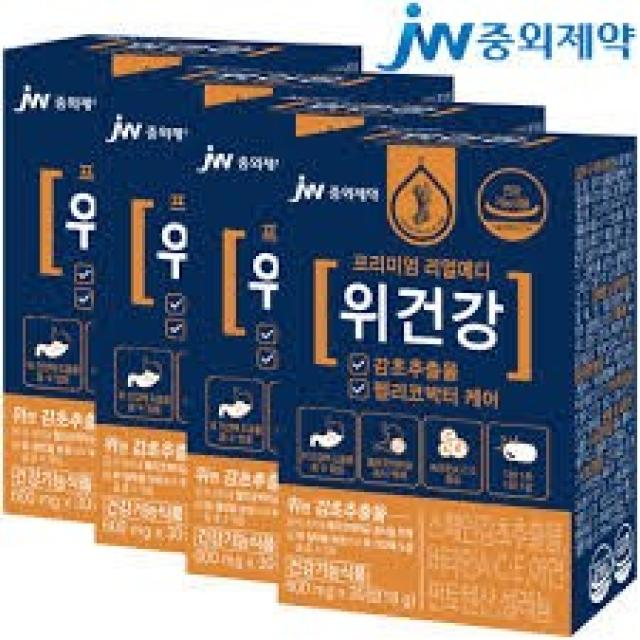HEALTHY: (474, 167, 552, 247)
